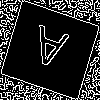A: (25, 24, 70, 78)
